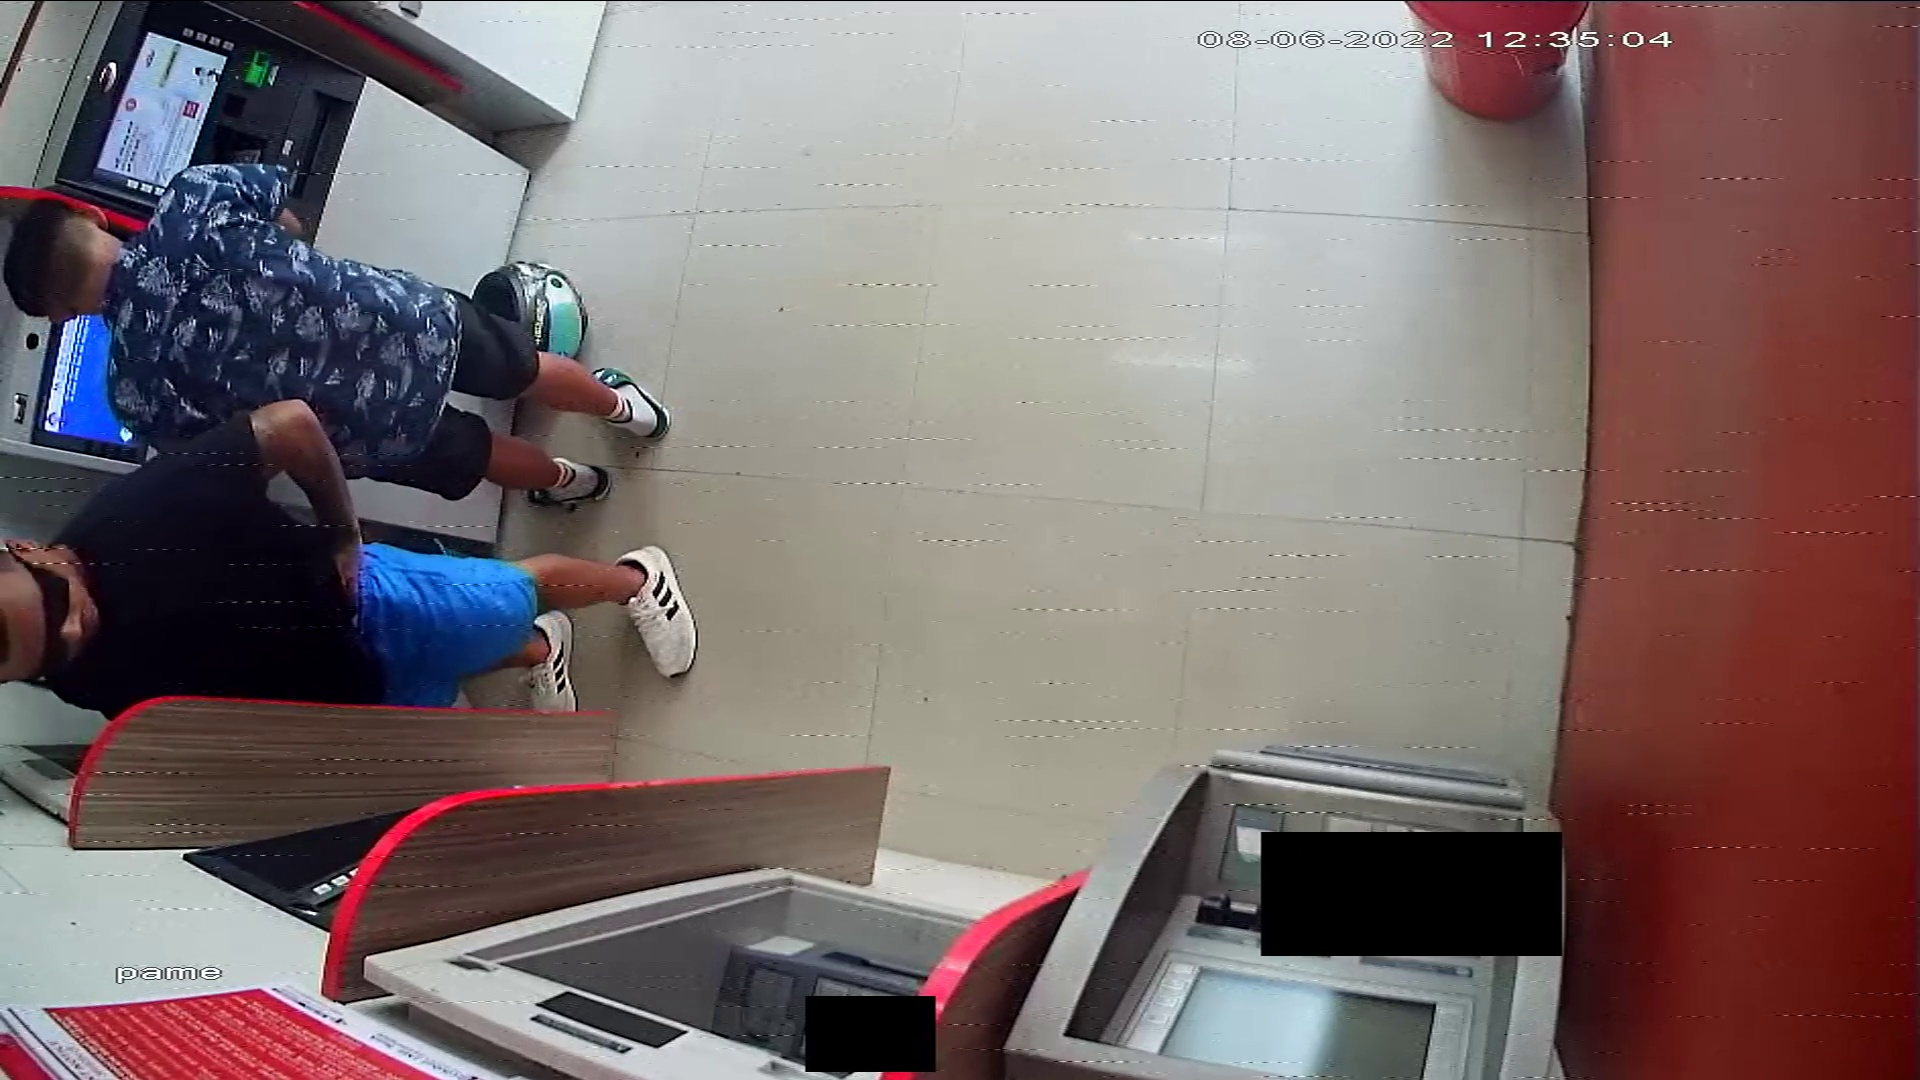helmet: (473, 258, 595, 358)
person: (1, 168, 667, 504), (1, 402, 701, 710)
